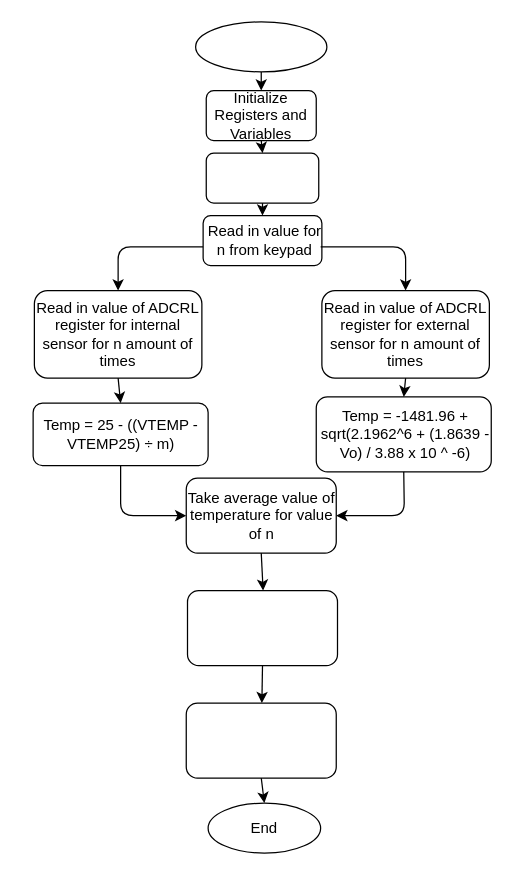
This 524x875 diagram has some shape labels left out. The shapes that lost their labels are listed below. From the top down, each one's box as (x1, y1, x2, y2) in pixels, then its label:
(194, 21, 327, 72): Start
(205, 152, 319, 203): Main Loop
(186, 589, 338, 666): Binary coded decimal to convert hex values into ASCII values
(185, 702, 336, 778): Display value onto LCD
